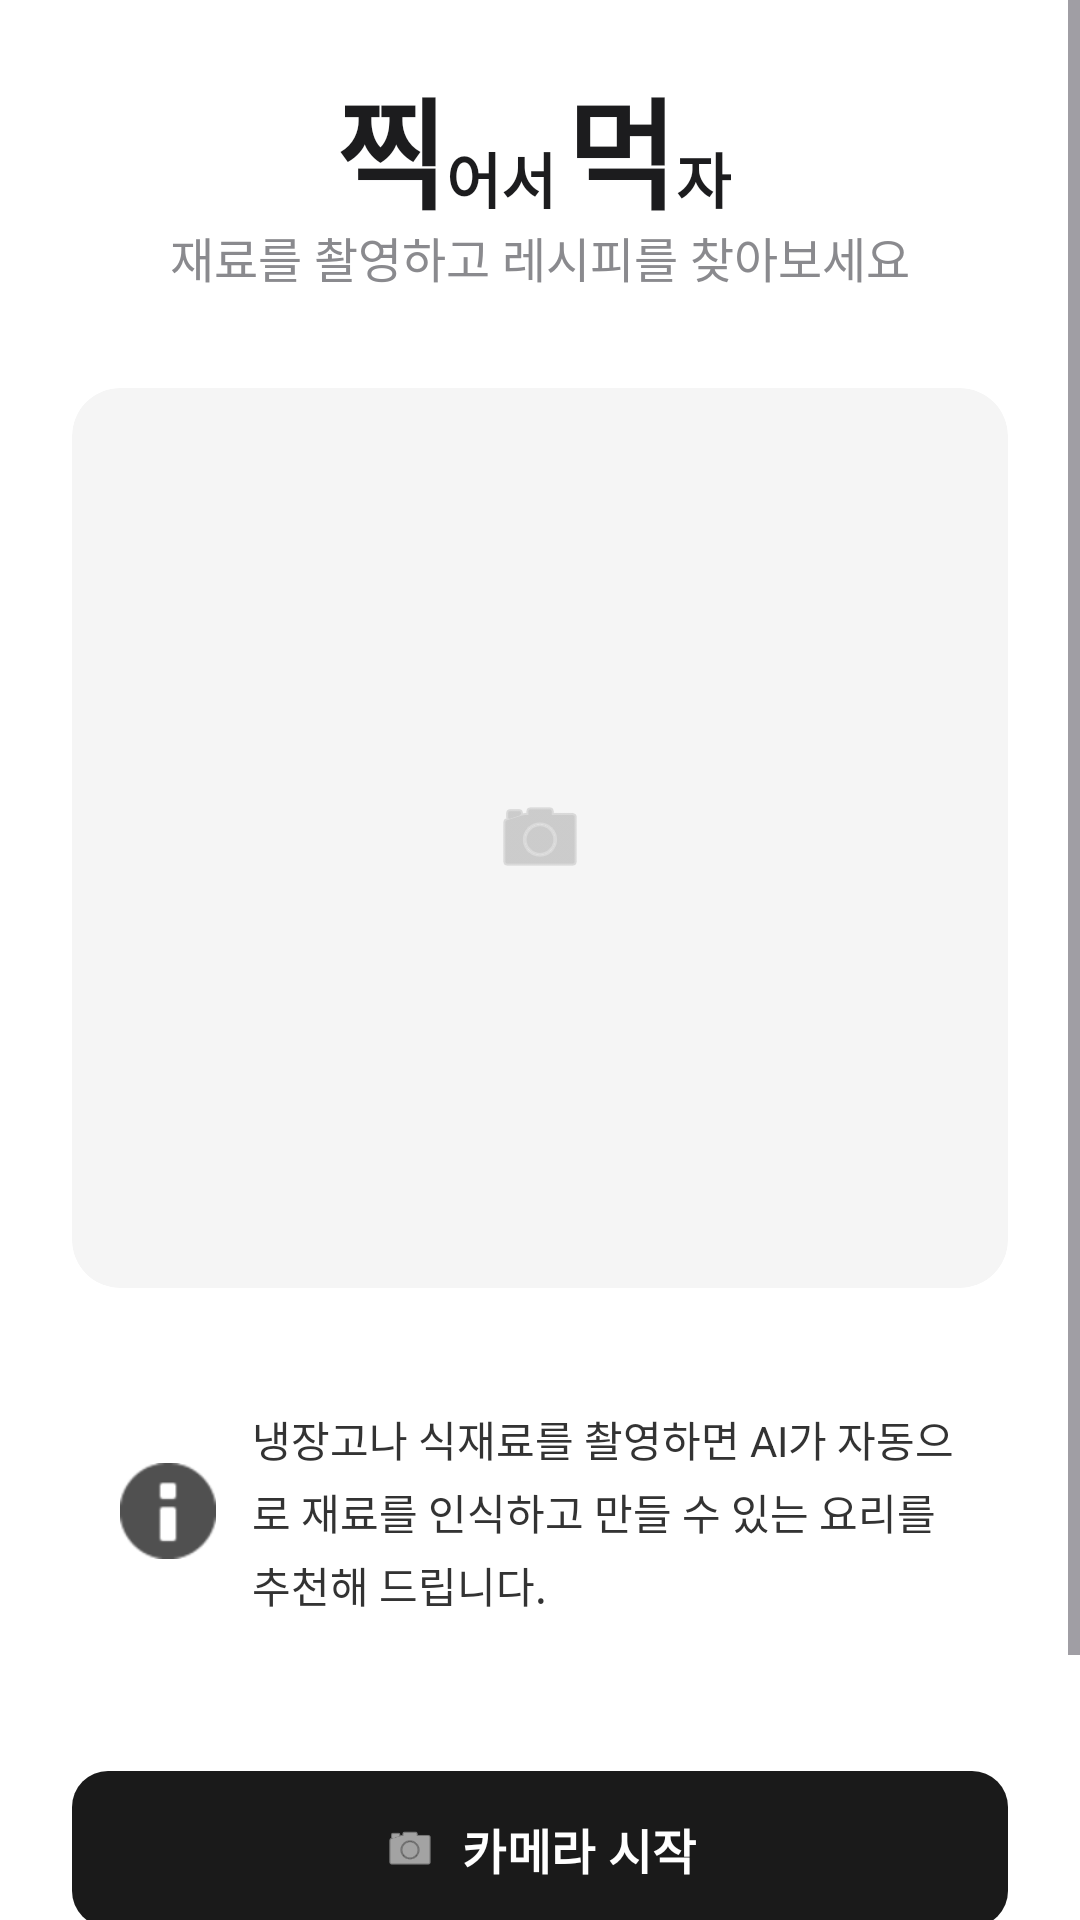

Locate icon controls on the screen. Image size 1080w x 1920h, boxes as (x1, y1, x2, y2).
camera: (504, 808, 576, 865)
